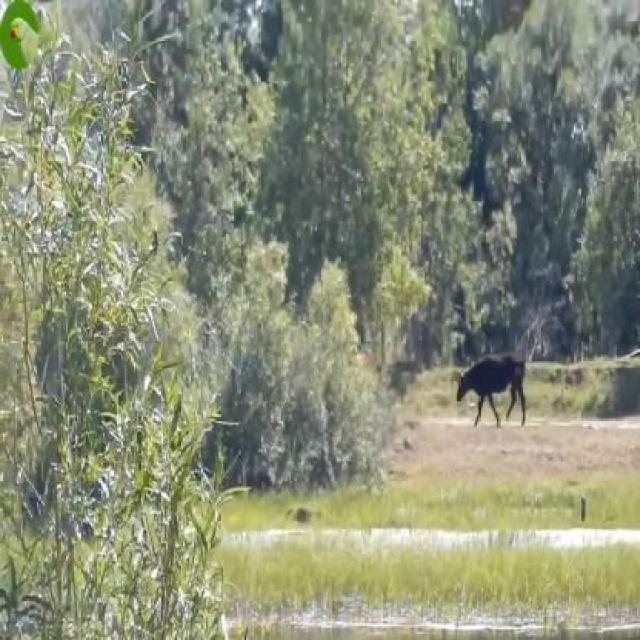Cow: (455, 357, 528, 431)
